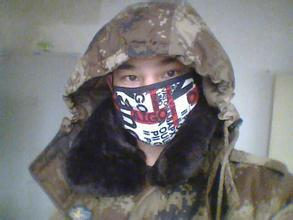OK: (113, 60, 195, 144)
